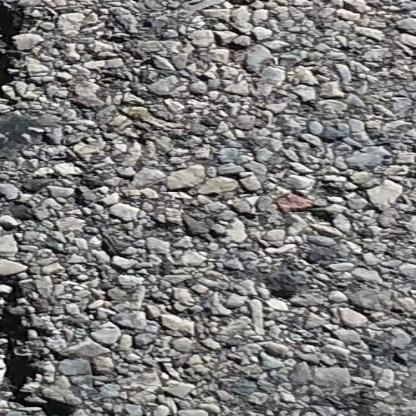Cracks: (0, 0, 97, 416)
